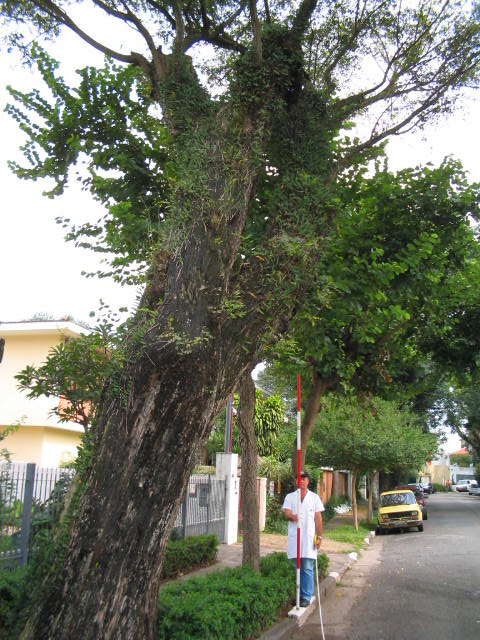stem: (8, 364, 230, 639)
stick: (290, 372, 306, 615)
tree: (5, 3, 475, 637)
